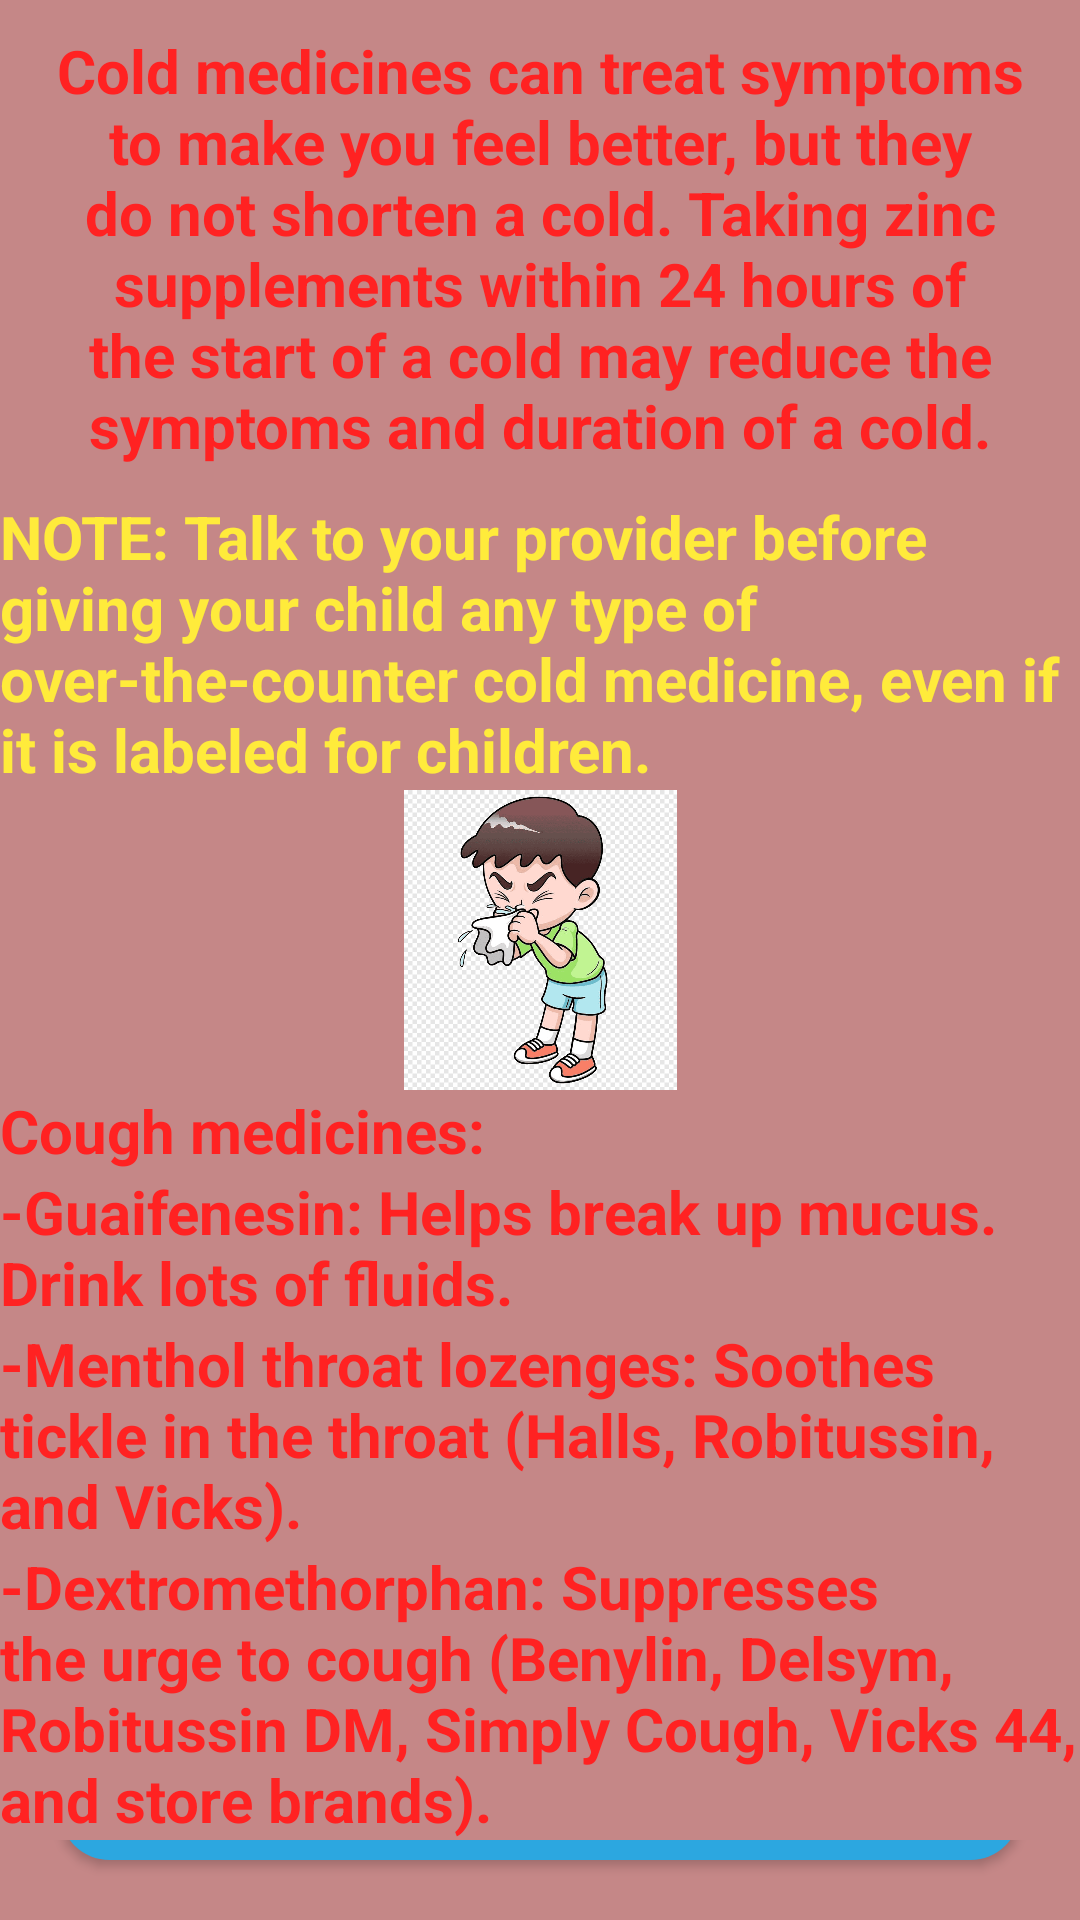

Where icons sit on this 1080px×1920px app screen, as [left=x1, top=y1, right=x2, bottom=y2]:
flu: [left=404, top=790, right=677, bottom=1090]
